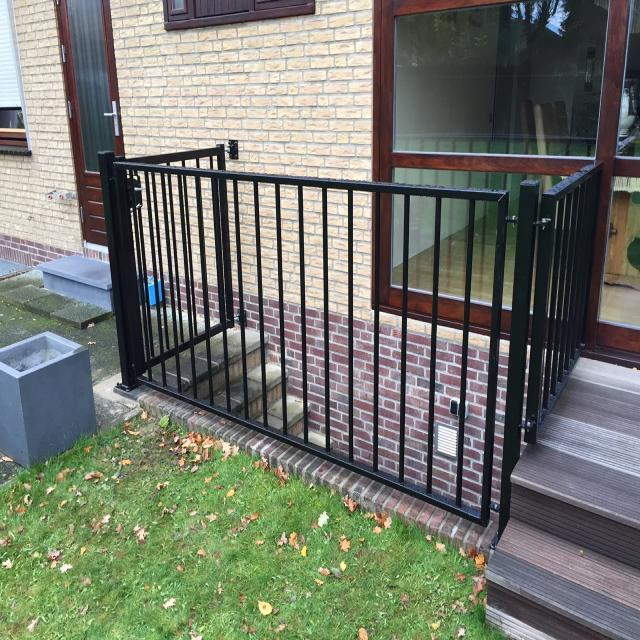fence line: (129, 162, 513, 531)
